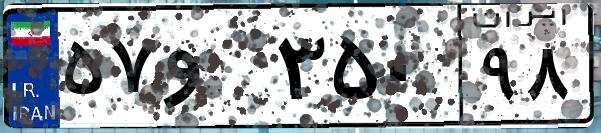0: (385, 28, 445, 110)
3: (270, 28, 330, 110)
5: (330, 28, 385, 110), (57, 26, 110, 100)
7: (110, 28, 158, 98)
8: (525, 38, 570, 115)
9: (475, 38, 525, 113)
و: (158, 20, 270, 120)
